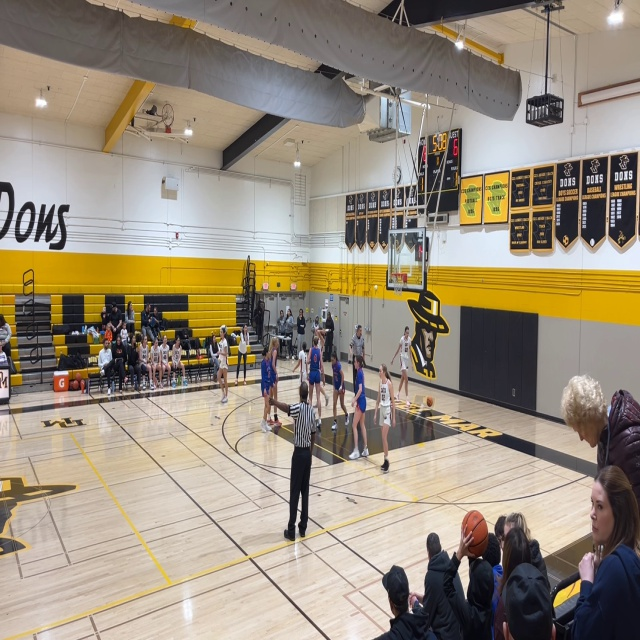Basketball: (461, 510, 489, 558), (426, 396, 433, 407)
